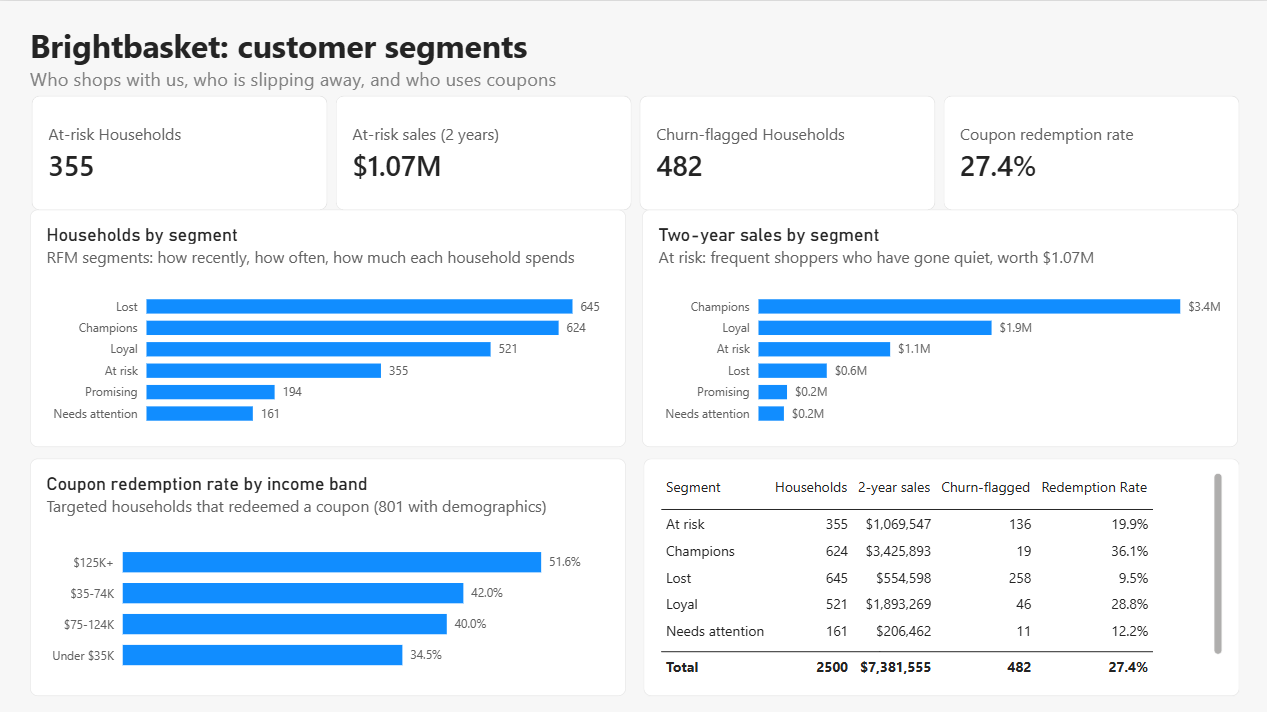

Layout of this report page (visuals, bound fields, positions):
{"tool":"powerbi","page":{"name":"Customer segments","canvas":[1280,720],"ordinal":3},"visuals":[{"type":"textbox","box":[31,23,900,72],"z":0},{"type":"clusteredBarChart","title":"Households by segment","fields":{"Category":["dim_household.segment"],"Y":["_Measures.HH Count"]},"box":[31,210,602,240],"z":2000},{"type":"clusteredBarChart","title":"Two-year sales by segment","fields":{"Category":["dim_household.segment"],"Y":["_Measures.Segment Sales"]},"box":[649,210,602,240],"z":2001},{"type":"clusteredBarChart","title":"Coupon redemption rate by income band","fields":{"Y":["_Measures.Redemption Rate"],"Category":["dim_household.income_band"]},"box":[31,462,602,240],"z":2002},{"type":"tableEx","fields":{"Values":["dim_household.segment","_Measures.HH Count","_Measures.Segment Sales","_Measures.Churn-flagged Households","_Measures.Redemption Rate"]},"box":[649.6,461.8,602,240],"z":2003},{"type":"cardVisual","fields":{"Data":["_Measures.At-risk Households","_Measures.At-risk Sales","_Measures.Churn-flagged Households","_Measures.Redemption Rate"]},"box":[31.1,95.6,1220,116],"z":2004}]}

Visuals, with their boxes in screenshot pixels (x1, y1, x2, y2), scaled from the page's 1280x720 canvas onto the 1267x712 screenshot:
textbox: x1=31, y1=23, x2=922, y2=94
"Households by segment" clusteredBarChart: x1=31, y1=208, x2=627, y2=445
"Two-year sales by segment" clusteredBarChart: x1=642, y1=208, x2=1238, y2=445
"Coupon redemption rate by income band" clusteredBarChart: x1=31, y1=457, x2=627, y2=694
tableEx - dim_household.segment x _Measures.HH Count: x1=643, y1=457, x2=1239, y2=694
cardVisual - _Measures.At-risk Households x _Measures.At-risk Sales: x1=31, y1=95, x2=1238, y2=209
